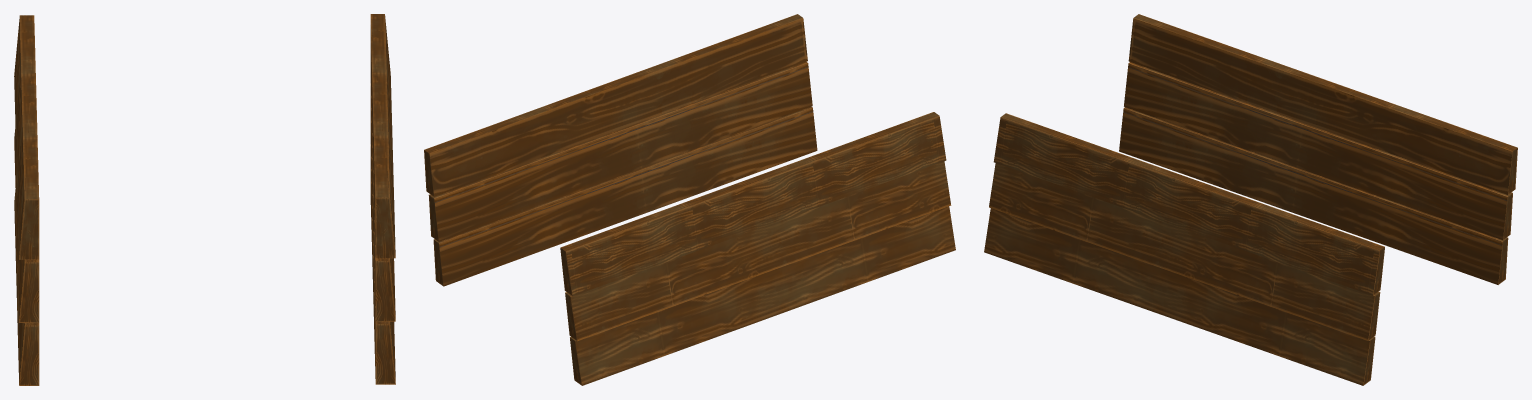
3 renders of one model, left to right at view 1: azimuth 30°, elevation 25°; view 2: azimuth 150°, elevation 25°; view 3: azimuth 270°, elevation 25°, orthographic. The views are drawn at different scales.
Parts seen in each view (by area): view 1: Cube.1019; view 2: Cube.1019; view 3: Cube.1019.
Boxes of the visible parts, box(x1,y1,x2,y2) form: Cube.1019: box(14, 14, 395, 385); Cube.1019: box(424, 14, 955, 385); Cube.1019: box(984, 14, 1517, 385).
Size of the model in its own units: 554 by 233 by 627.
Materials: 1 (1 with a texture image).
